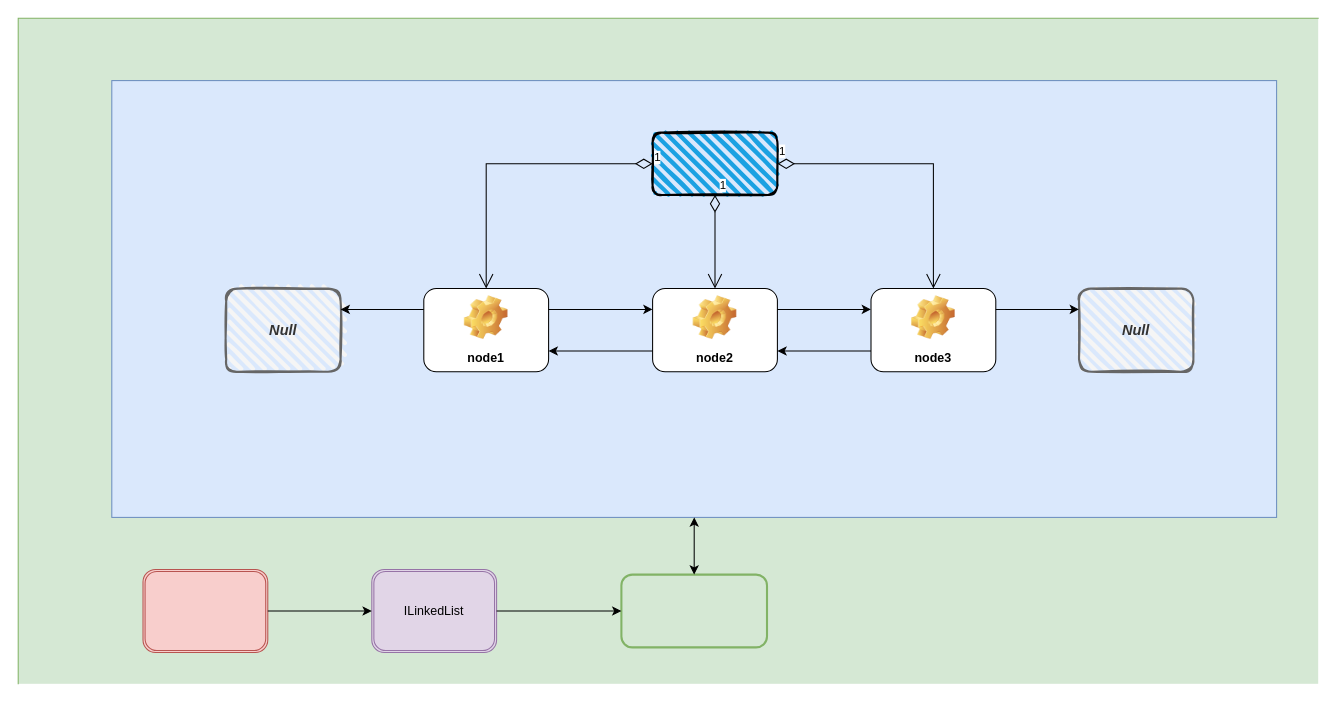
Some shapes in this 1336 by 702 pixel diagram are drawn without their labels. Each missing label, with the centre of its shape:
BusinessLogicChain: pixel 694 610
ILink: pixel 205 610
ILogicHandler: pixel 714 163
